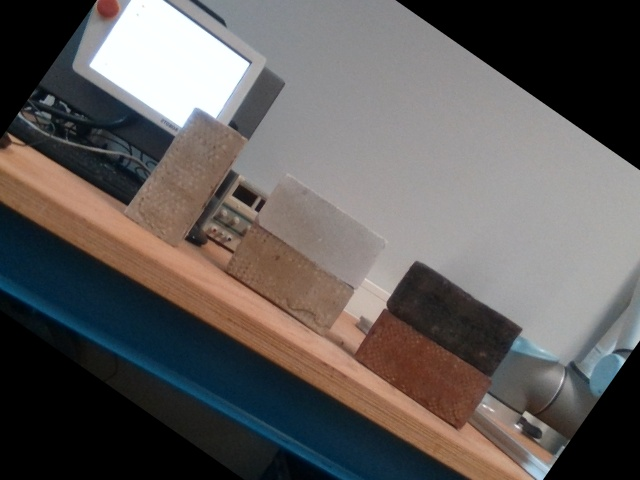brick: (354, 312, 489, 428), (127, 110, 241, 242), (256, 175, 385, 288), (391, 261, 519, 373), (228, 227, 350, 333)
